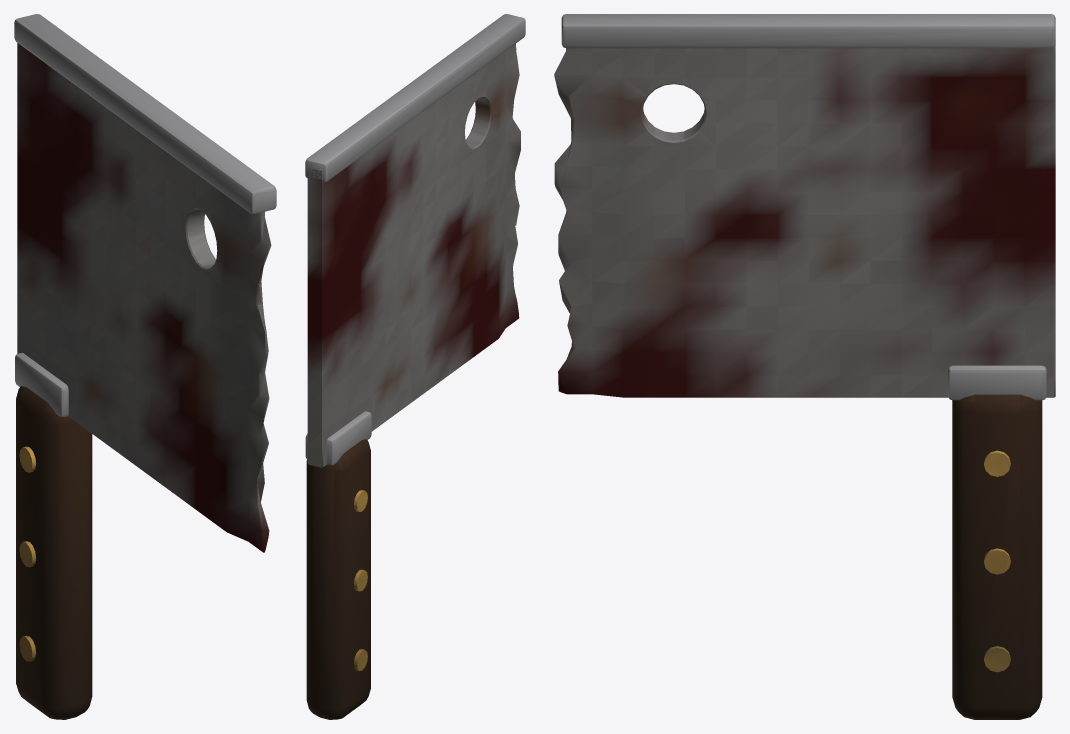
The model's file is Cleaver.glb.
3 views of the same model, side by side, from view 1: azimuth 30°, elevation 25°; view 2: azimuth 150°, elevation 25°; view 3: azimuth 270°, elevation 25° (orthographic). The views are drawn at different scales.
Parts seen in each view (by area): view 1: Cleaver_steel_bloody, Cleaver_wood_dark, Cleaver_steel, Cleaver_brass; view 2: Cleaver_steel_bloody, Cleaver_wood_dark, Cleaver_steel, Cleaver_brass; view 3: Cleaver_steel_bloody, Cleaver_wood_dark, Cleaver_steel, Cleaver_brass.
Boxes of the visible parts, left/top/right/bottom form: Cleaver_steel_bloody: left=17, top=43, right=271, bottom=552; Cleaver_wood_dark: left=16, top=386, right=92, bottom=719; Cleaver_steel: left=14, top=14, right=276, bottom=416; Cleaver_brass: left=19, top=446, right=36, bottom=661; Cleaver_steel_bloody: left=307, top=43, right=520, bottom=467; Cleaver_wood_dark: left=306, top=439, right=370, bottom=719; Cleaver_steel: left=305, top=14, right=525, bottom=465; Cleaver_brass: left=354, top=490, right=367, bottom=670; Cleaver_steel_bloody: left=554, top=45, right=1055, bottom=397; Cleaver_wood_dark: left=952, top=394, right=1042, bottom=719; Cleaver_steel: left=561, top=14, right=1055, bottom=400; Cleaver_brass: left=984, top=450, right=1010, bottom=672.
Size of the model in its own units: 0.15 by 1.71 by 1.12.
